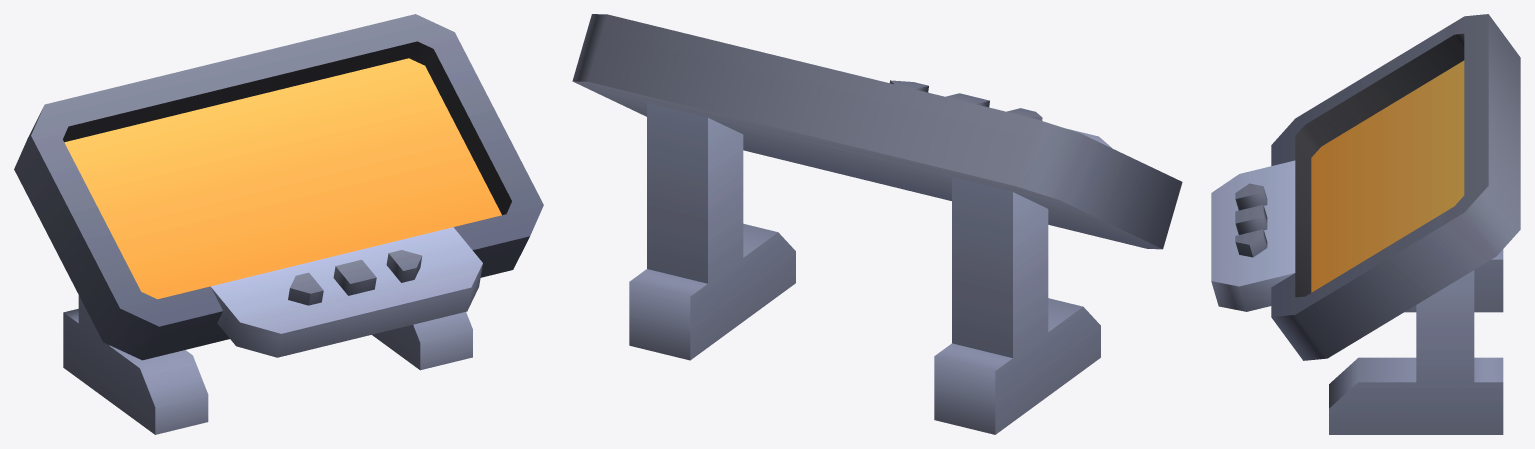
The model's file is k-space-station-computer-wide.glb.
3 views of the same model, side by side, from view 1: azimuth 30°, elevation 25°; view 2: azimuth 150°, elevation 25°; view 3: azimuth 270°, elevation 25° (orthographic). The views are drawn at different scales.
Visible parts, largest first — view 1: computer-wide; view 2: computer-wide; view 3: computer-wide.
Part boxes in pixels (x1,y1,x2,y2): computer-wide: [14, 14, 543, 434]; computer-wide: [572, 14, 1182, 434]; computer-wide: [1211, 14, 1520, 434].
Bounding box in the file's own units: 0.8 × 0.4968 × 0.5332.
1 material, 1 textured.
